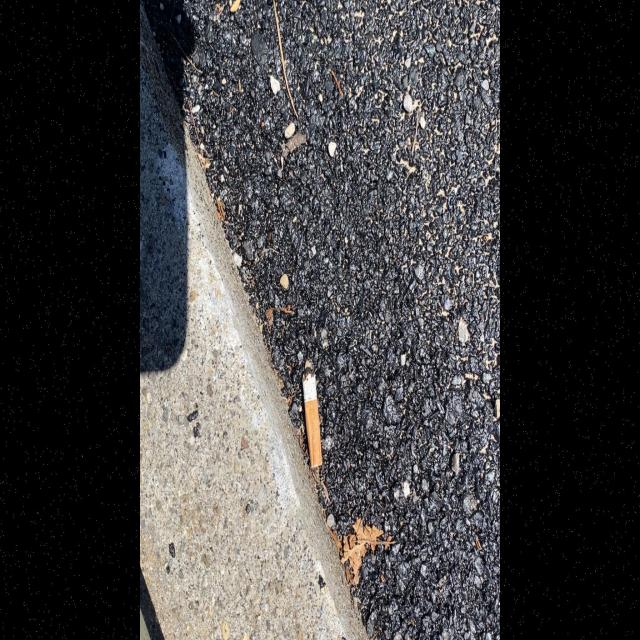other waste: (302, 371, 323, 468)
